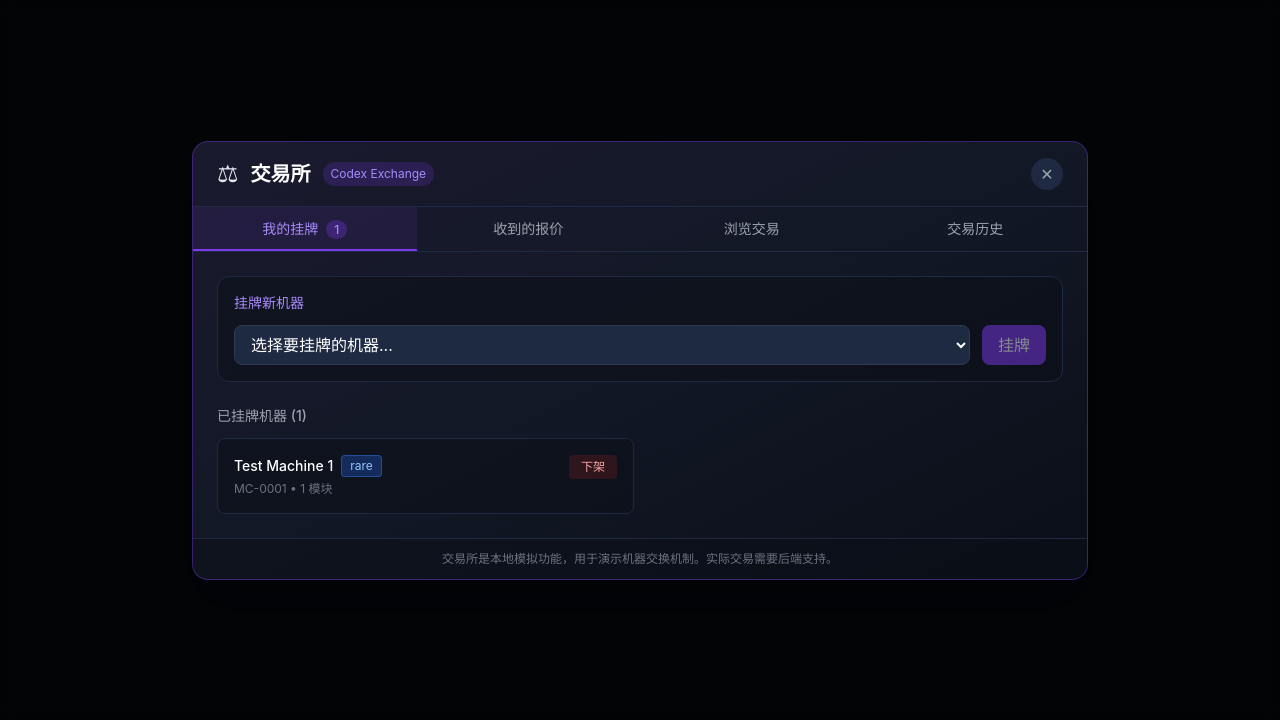
Test: ExchangePanel › Incoming Offers Tab (AC-120-003) › should show empty state when no incoming proposals
This screenshot has width=1280, height=720.
What coordinates should you click on to do the following:
click the button "收到的报价"
I would click on:
 (528, 228)
Its box is 416,206 -> 640,250.
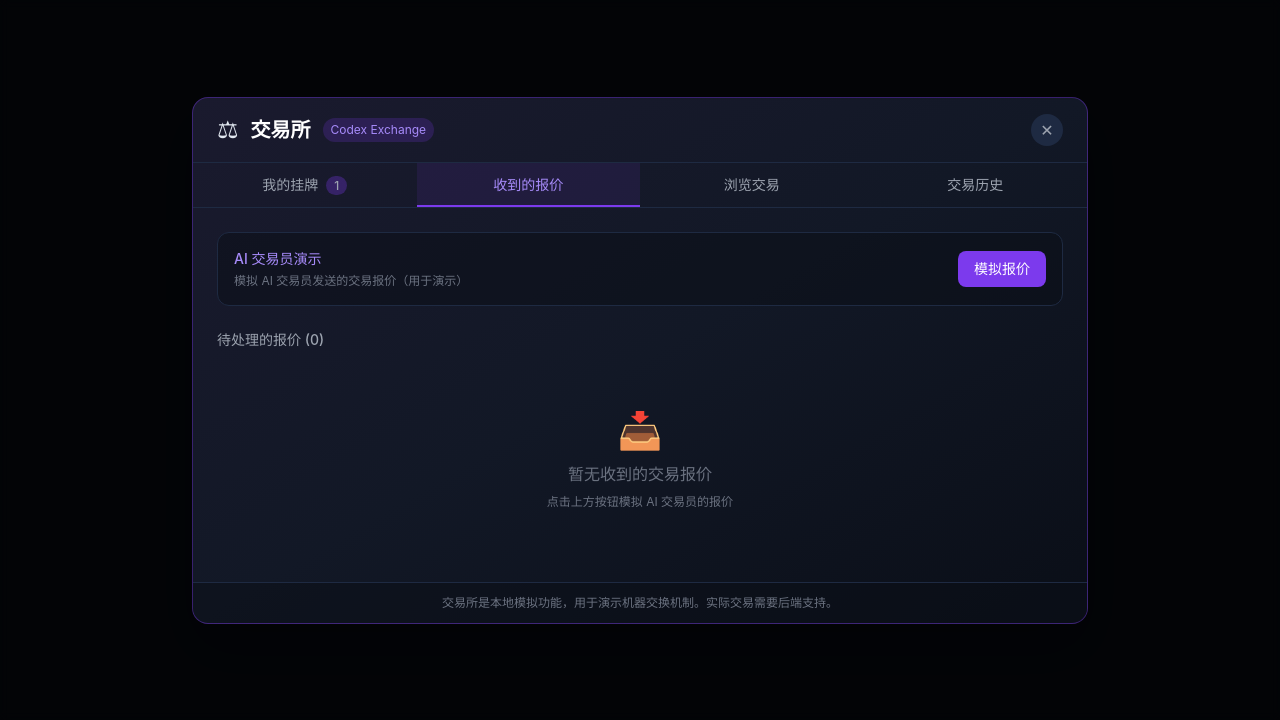
Now the text "暂无收到的交易报价" is shown, box 568,464 -> 712,484
